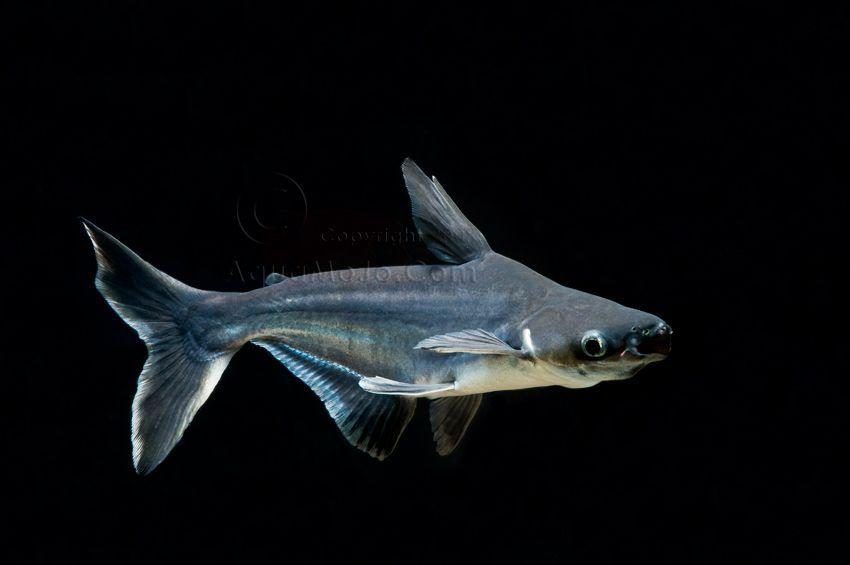Pangasius: (61, 156, 681, 471)
